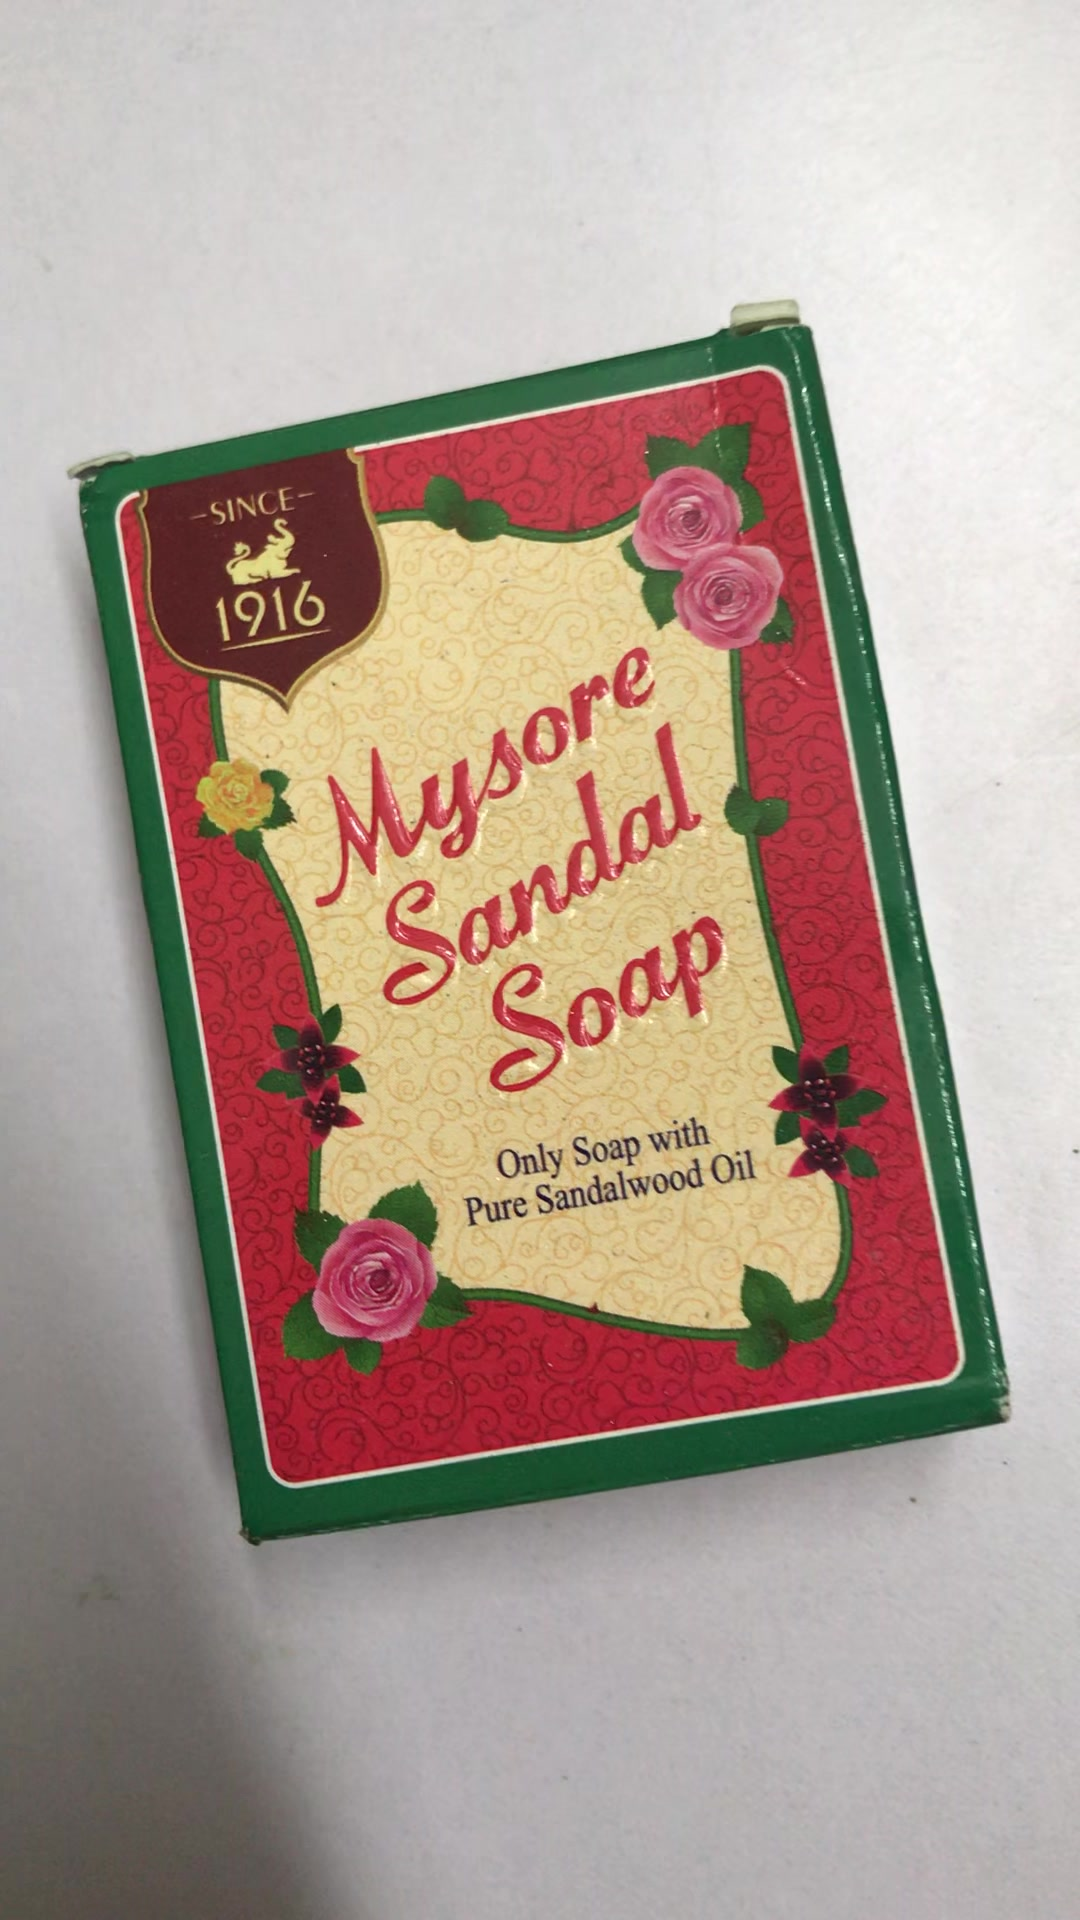mysore sandal soap: (88, 331, 1009, 1538)
